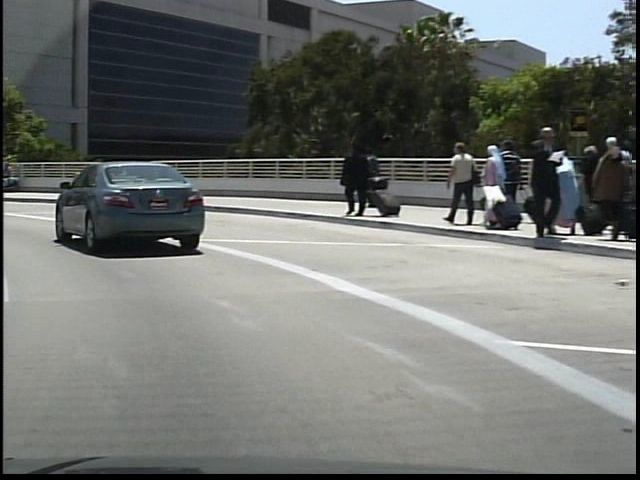person: (522, 122, 563, 240), (438, 138, 477, 226), (333, 140, 369, 218), (360, 147, 381, 209)
